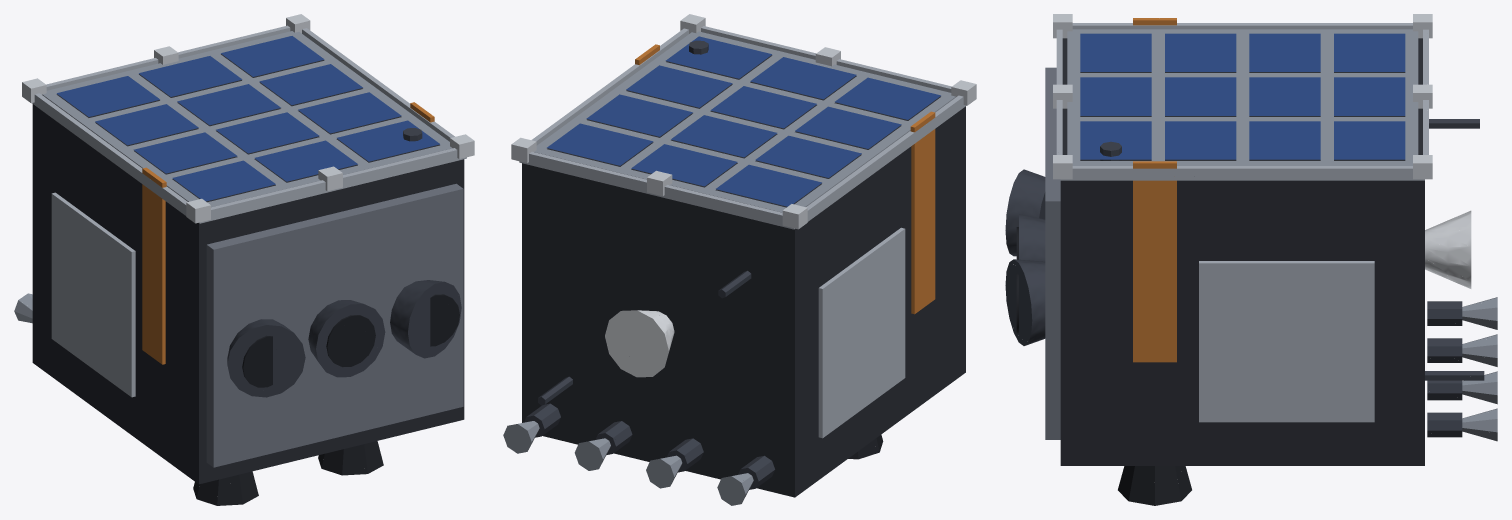
File: proba-v.glb
3 views of the same model, side by side, from view 1: azimuth 30°, elevation 25°; view 2: azimuth 150°, elevation 25°; view 3: azimuth 270°, elevation 25° (orthographic). The views are drawn at different scales.
Visible parts, largest first — view 1: body, solar-panel, foil; view 2: body, solar-panel, foil; view 3: body, solar-panel, foil.
Part boxes in pixels (x1,y1,x2,y2): body: (14,14,474,505); solar-panel: (32,25,466,223); foil: (142,102,434,364); body: (503,14,976,505); solar-panel: (519,26,966,229); foil: (635,44,935,314); body: (1005,14,1497,505); solar-panel: (1056,23,1428,180); foil: (1133,18,1176,362).
Size of the model in its own units: 0.805 by 0.925 by 1.12.
